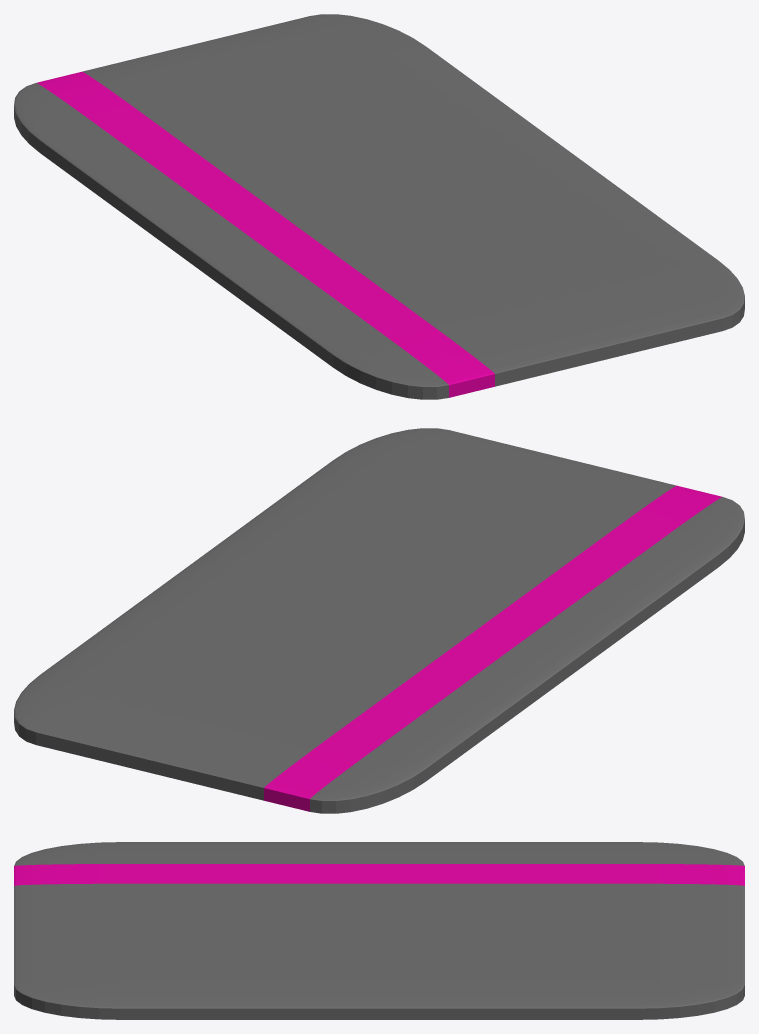
The model's file is PinkKeyCard.glb.
3 renders of one model, top to bottom at view 1: azimuth 30°, elevation 25°; view 2: azimuth 150°, elevation 25°; view 3: azimuth 270°, elevation 25°, orthographic. The views are drawn at different scales.
Visible parts, largest first — view 1: Cube; view 2: Cube; view 3: Cube.
Part boxes in pixels (box(x1,y1,x2,y2)): Cube: box(14, 14, 744, 399); Cube: box(14, 428, 744, 813); Cube: box(14, 842, 744, 1019).
Bounding box in the file's own units: 0.0525 × 0.00233 × 0.0974.
